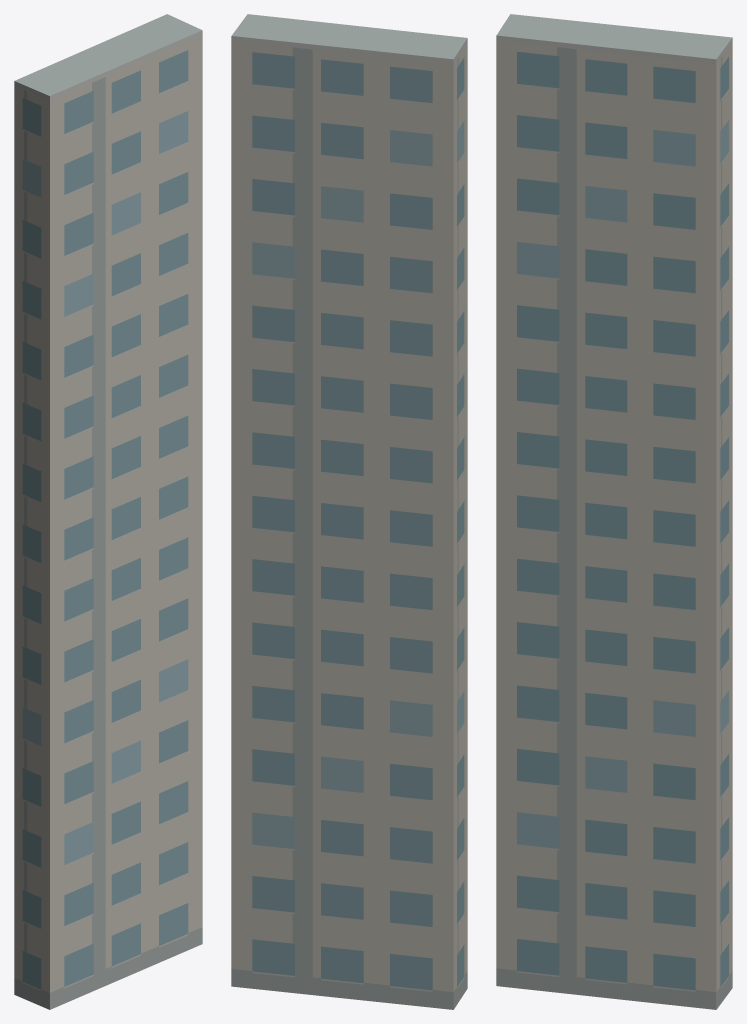
Rendered from survey-upis-32646011.glb.
3 renders of one model, left to right at view 1: azimuth 30°, elevation 25°; view 2: azimuth 150°, elevation 25°; view 3: azimuth 330°, elevation 25°, orthographic. The views are drawn at different scales.
Visible parts, largest first — view 1: survey-upis-32646011.tmp; view 2: survey-upis-32646011.tmp; view 3: survey-upis-32646011.tmp.
Boxes of the visible parts, left/top/right/bottom form: survey-upis-32646011.tmp: left=14, top=14, right=202, bottom=1009; survey-upis-32646011.tmp: left=231, top=14, right=467, bottom=1009; survey-upis-32646011.tmp: left=496, top=14, right=732, bottom=1009.
Bounding box in the file's own units: 10.13 × 45.75 × 4.98.
